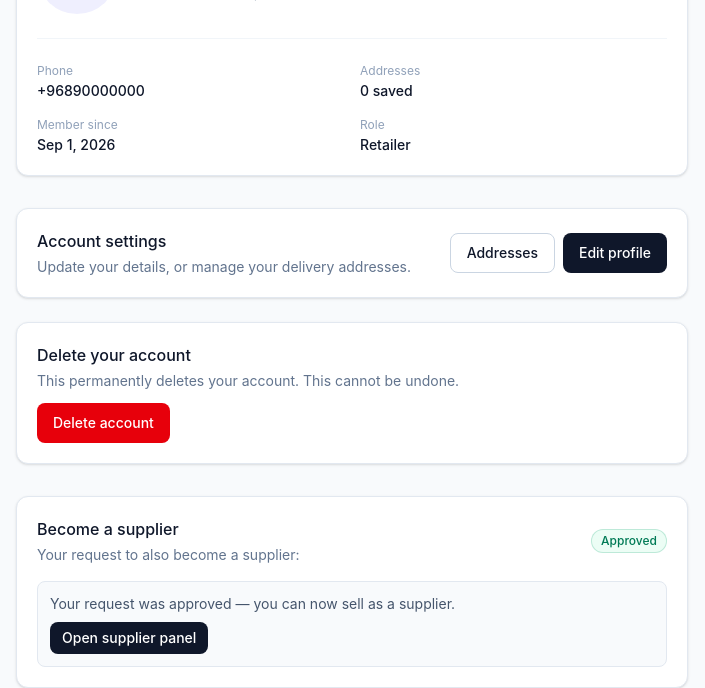
ProfilePage (retailer) — supplier request outcome › shows the backend's reason when re-reading the account fails
The width and height of the screenshot is (705, 688).
(page scrolled)
What coordinates should you click on to do the following:
click the button "Open supplier panel"
I would click on:
 (129, 638)
Its box is x1=50 y1=622 x2=208 y2=654.
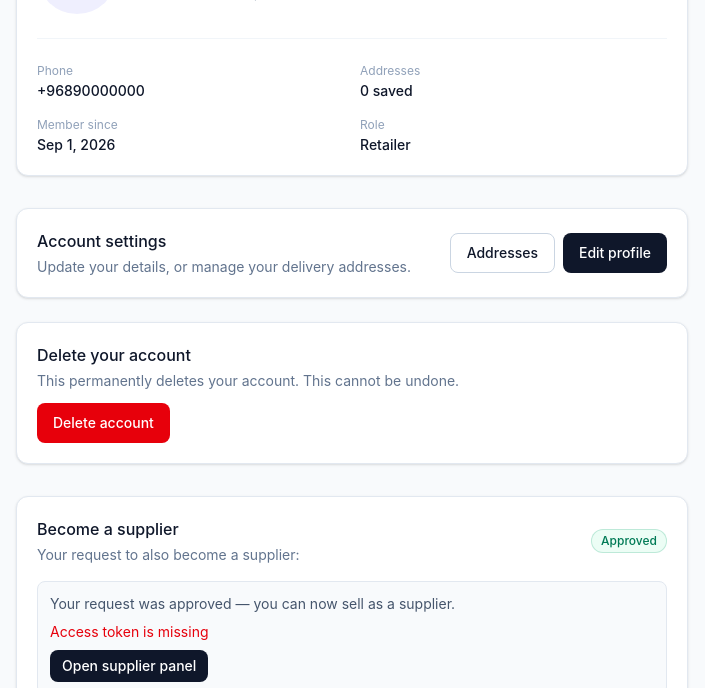
Expected: the text "Access token is missing" is shown, x1=50 y1=623 x2=208 y2=640
